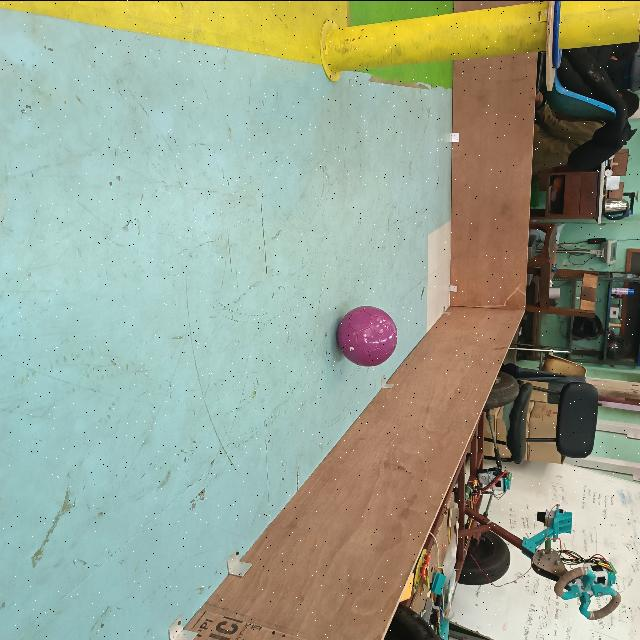P: (336, 304, 398, 366)
